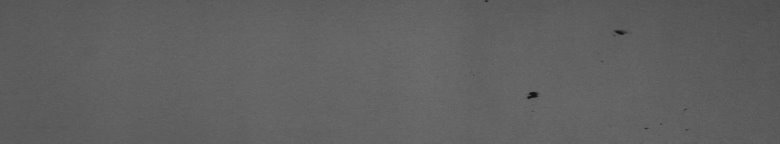fi: (521, 84, 544, 112)
